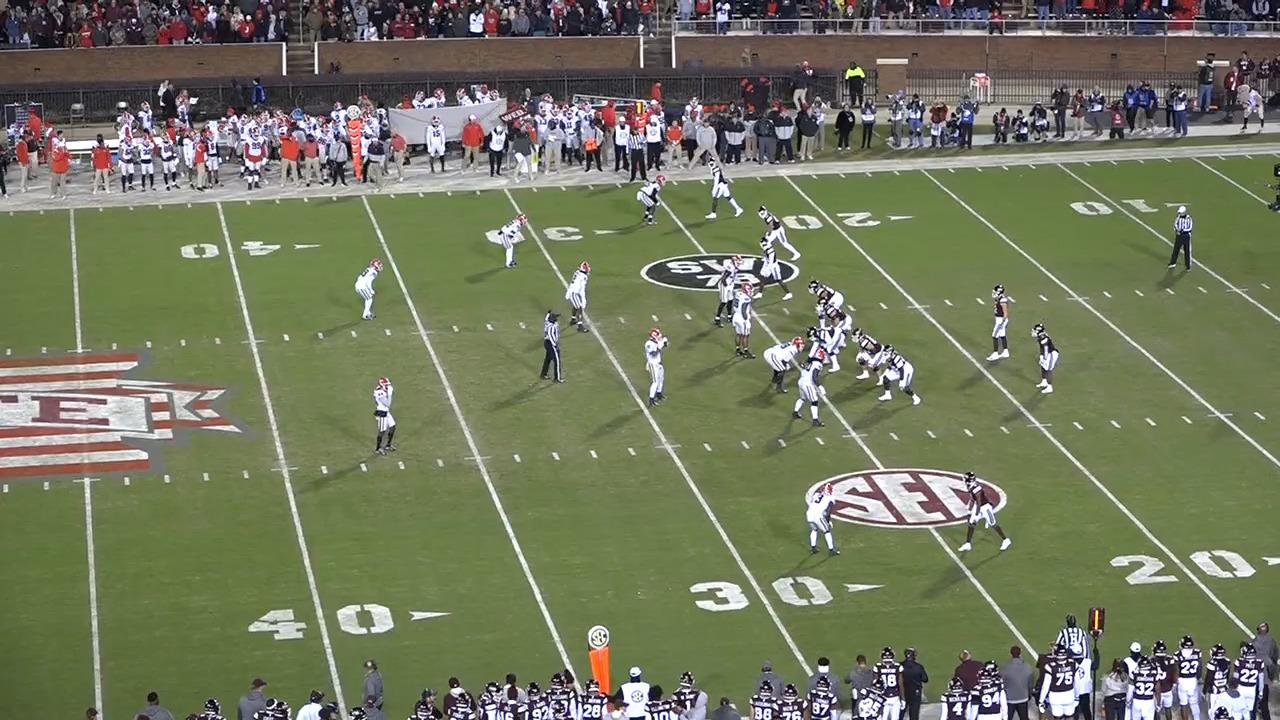player: (957, 468, 1017, 559), (801, 477, 841, 558), (789, 354, 828, 431), (879, 345, 925, 408), (762, 335, 807, 397), (750, 234, 791, 302), (757, 206, 802, 265), (704, 155, 743, 220), (366, 379, 394, 463), (710, 257, 742, 330), (1030, 319, 1061, 394), (645, 330, 673, 412), (981, 282, 1008, 365), (731, 280, 759, 359), (856, 326, 893, 385), (798, 325, 841, 375), (565, 263, 594, 336), (351, 256, 382, 322), (819, 299, 856, 348), (497, 213, 528, 270), (635, 171, 665, 226), (807, 278, 844, 309)
ref: (542, 312, 572, 389), (1166, 204, 1197, 273), (1057, 611, 1091, 663), (627, 126, 650, 183)
